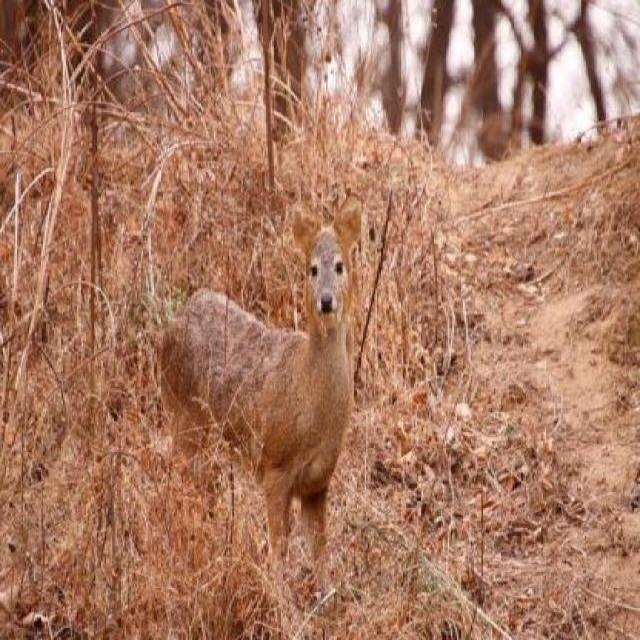deer: (156, 189, 373, 568)
